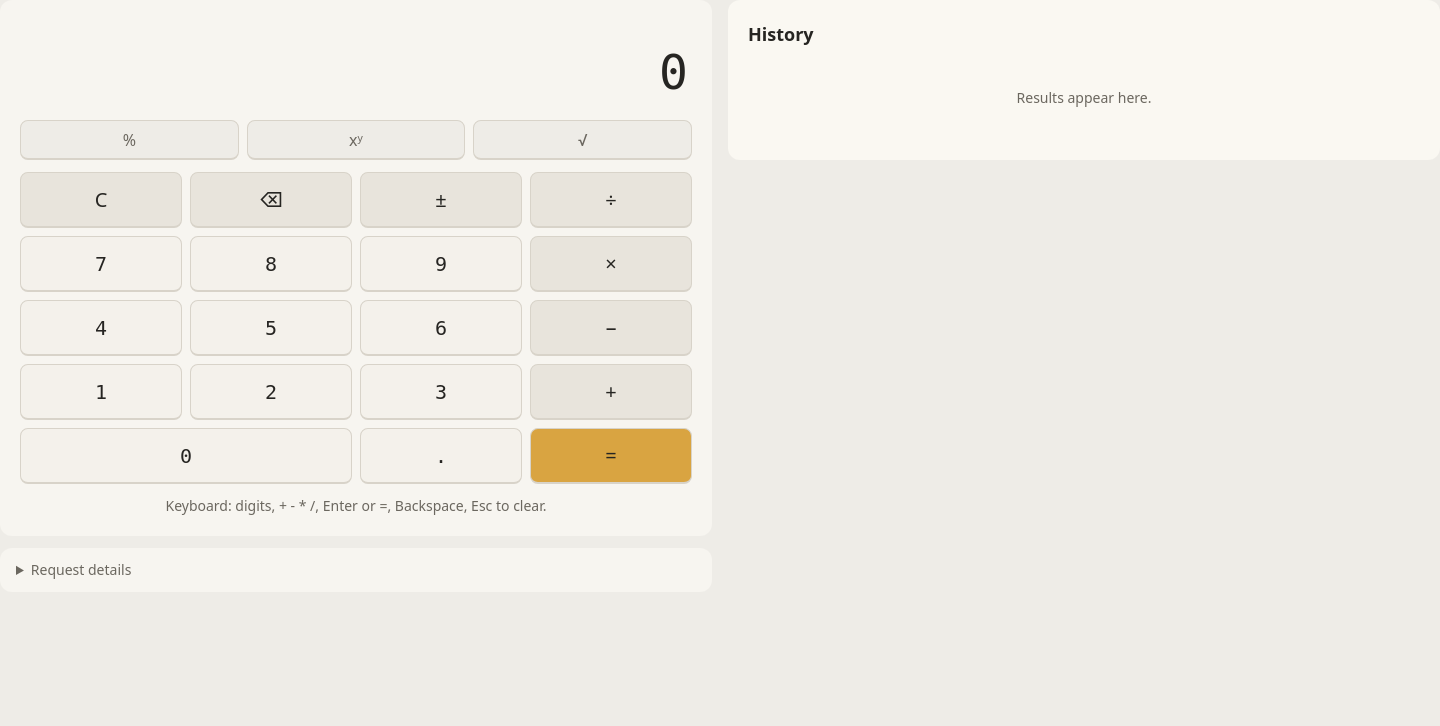
Scenario: Calculator › review regressions › presses Equals when Enter follows a click on "Request details"
Click the heading "Request details". click: (81, 570)
box: left=31, top=560, right=131, bottom=579
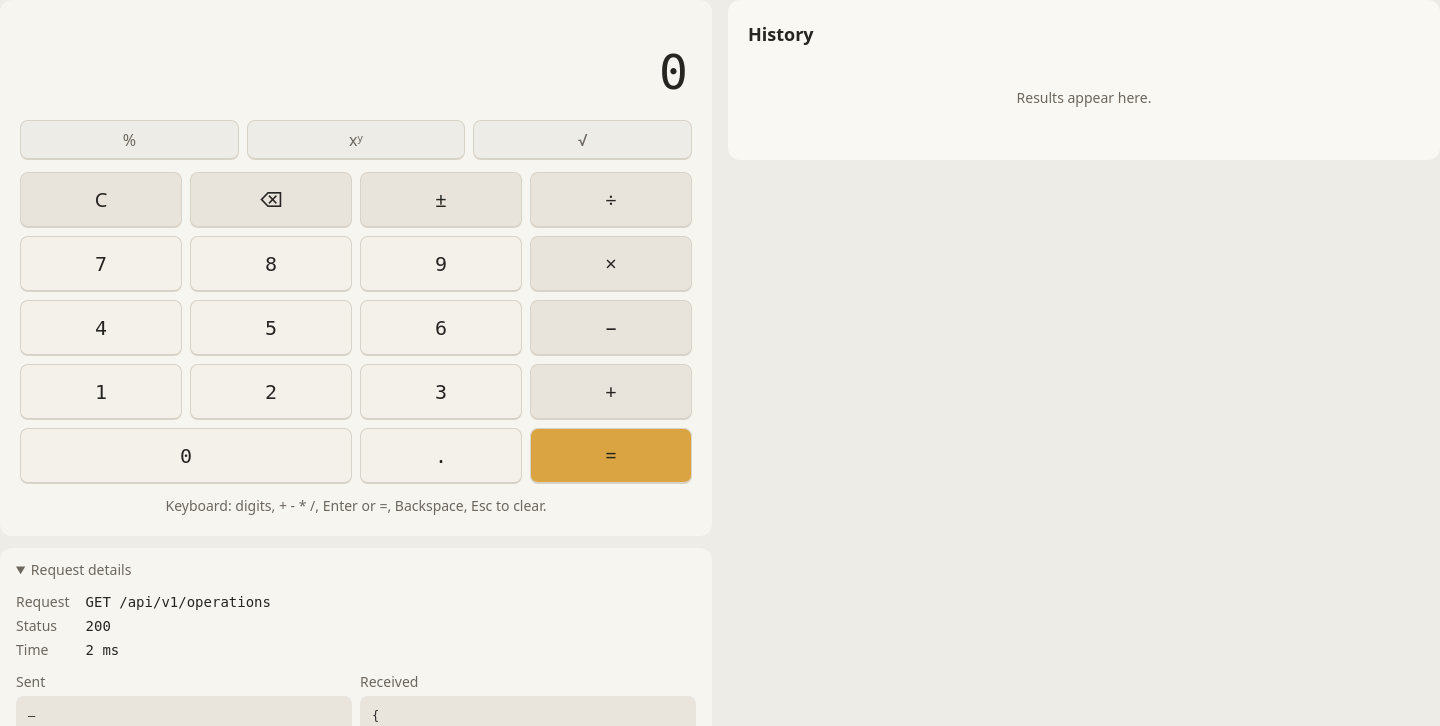
Type keys "2+2{Enter}"
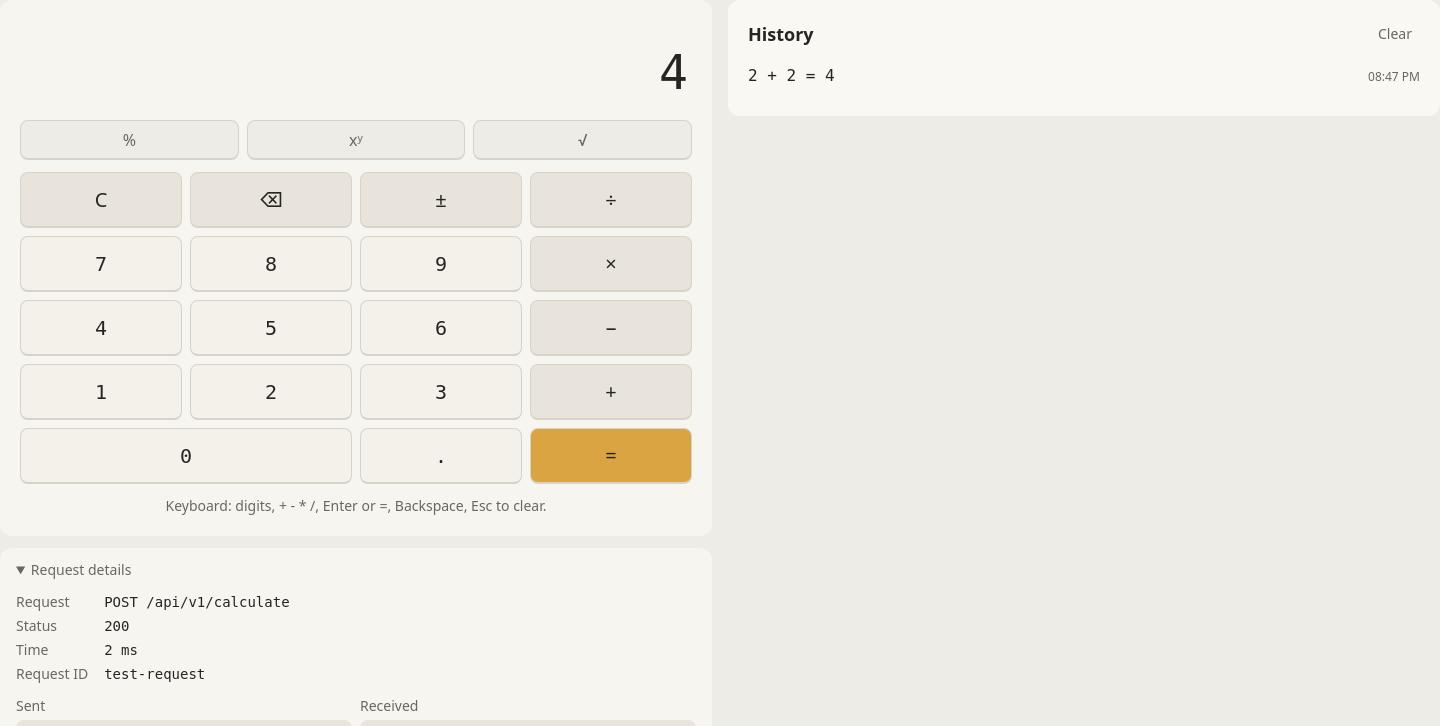
Check: the button named "Use result: 2 + 2 = 4" is shown, box left=744, top=64, right=839, bottom=88
